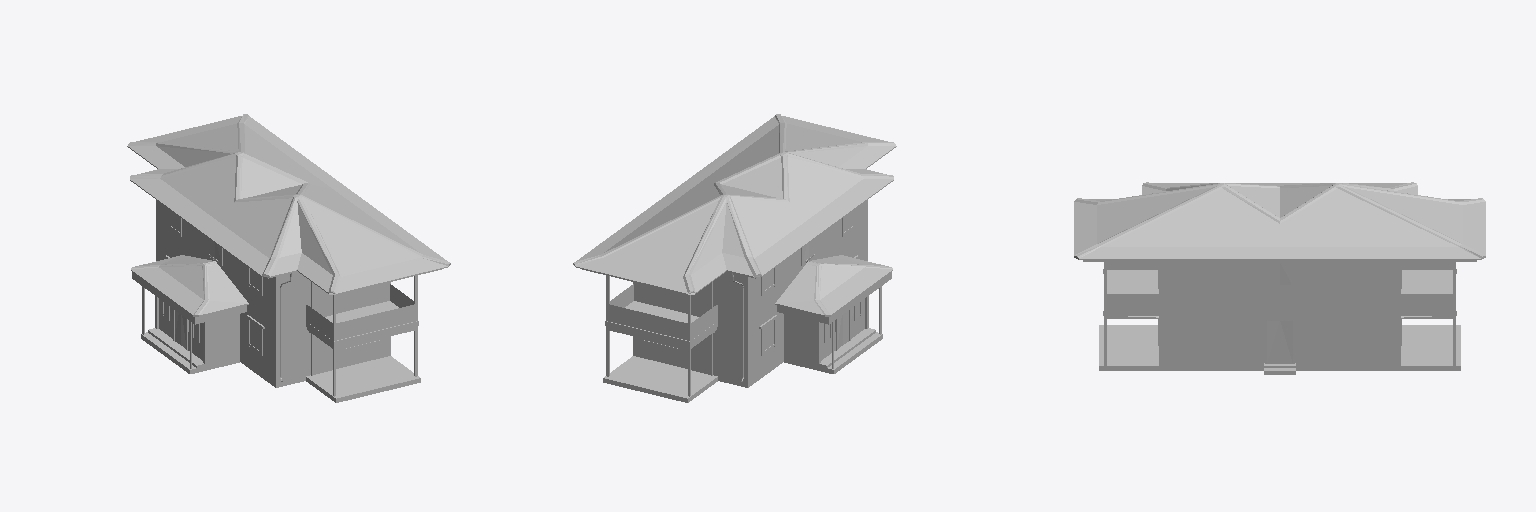
Rendered from flat.obj.
The picture shows the model from 3 angles: view 1: azimuth 30°, elevation 25°; view 2: azimuth 150°, elevation 25°; view 3: azimuth 270°, elevation 25°; orthographic projection.
Parts seen in each view (by area): view 1: City_building_034; view 2: City_building_034; view 3: City_building_034.
Part boxes in pixels (bbox=[...]): City_building_034: bbox=[127, 114, 450, 402]; City_building_034: bbox=[573, 114, 896, 402]; City_building_034: bbox=[1074, 182, 1485, 374].
Size of the model in its own units: 10.44 by 8.31 by 19.78.